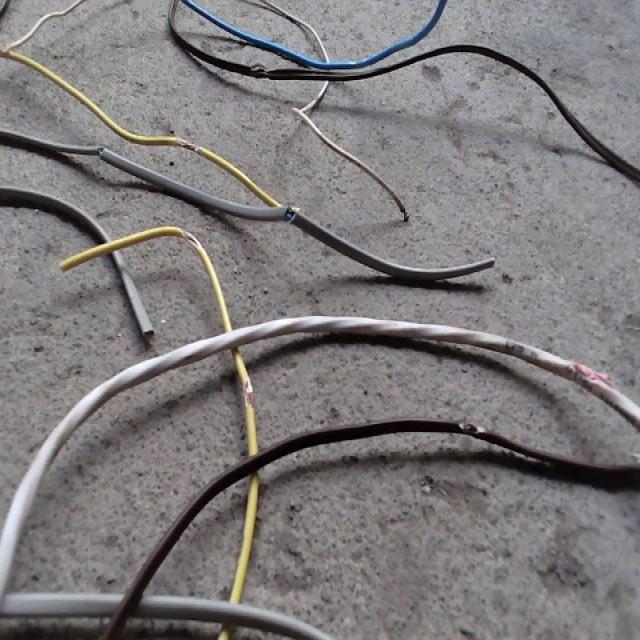-: (570, 359, 613, 388), (178, 225, 201, 251), (455, 417, 485, 436), (279, 199, 298, 228), (242, 377, 256, 411), (178, 137, 199, 152), (93, 144, 105, 157)
